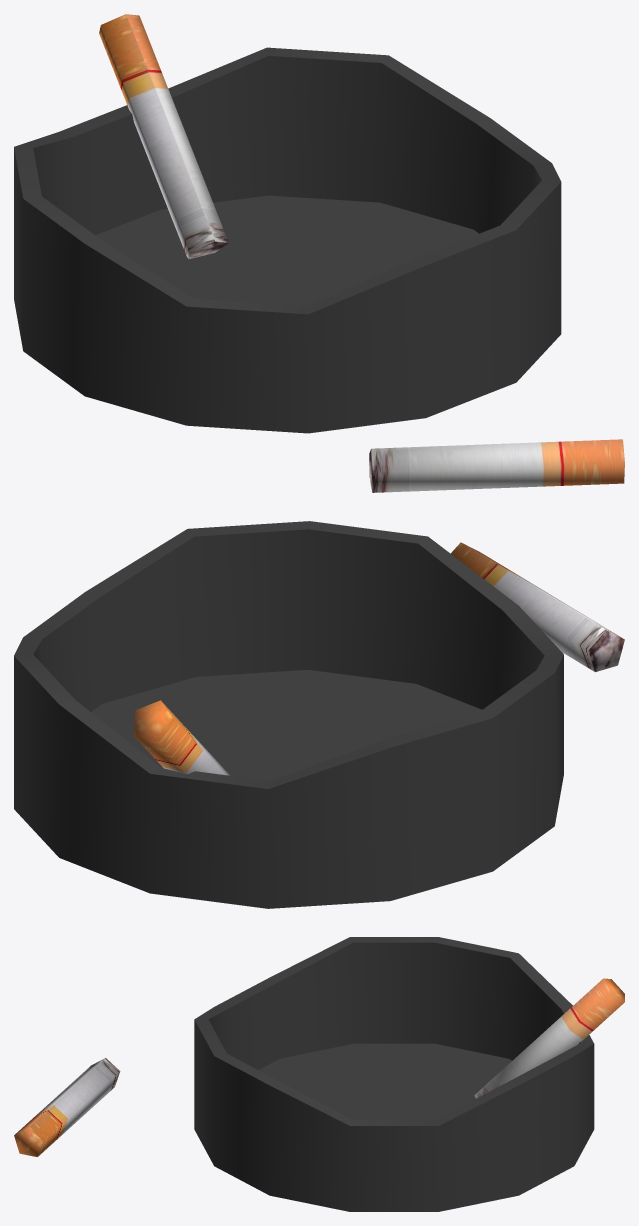
Rendered from Cig&tray.glb.
3 renders of one model, top to bottom at view 1: azimuth 30°, elevation 25°; view 2: azimuth 150°, elevation 25°; view 3: azimuth 270°, elevation 25°, orthographic. The views are drawn at different scales.
Visible parts, largest first — view 1: tray, cig; view 2: tray, cig; view 3: tray, cig.
Boxes of the visible parts, <box> form: tray: <box>14,14,561,433</box>; cig: <box>369,439,624,492</box>; tray: <box>14,521,563,908</box>; cig: <box>450,542,624,672</box>; tray: <box>194,937,624,1211</box>; cig: <box>14,1058,120,1156</box>.
Bounding box in the file's own units: 1.12 × 0.4585 × 1.75.
1 material, 1 textured.
